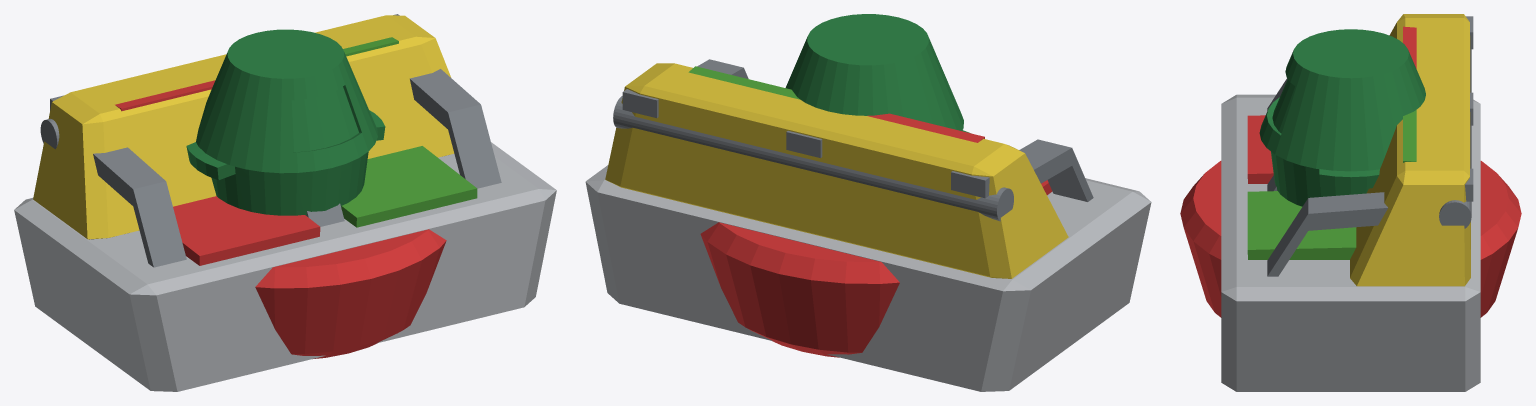
Rendered from muebles.glb.
The picture shows the model from 3 angles, left to right: view 1: azimuth 30°, elevation 25°; view 2: azimuth 150°, elevation 25°; view 3: azimuth 270°, elevation 25°; orthographic projection. The views are drawn at different scales.
Parts seen in each view (by area): view 1: mueble1-0, mueble3-0, basura-0, mueble2-0, sillas-0, sillas-1, sillas-2, mueble3-1; view 2: mueble3-0, mueble1-0, mueble2-0, mueble3-1, basura-0, sillas-0, sillas-1, sillas-2; view 3: mueble1-0, mueble3-0, basura-0, mueble3-1, mueble2-0, sillas-0, sillas-2, sillas-1.
Part boxes in pixels (box(x1,y1,x2,y2)): mueble1-0: box(14, 142, 554, 391); mueble3-0: box(33, 15, 454, 239); basura-0: box(186, 29, 385, 215); mueble2-0: box(255, 229, 446, 359); sillas-0: box(40, 14, 501, 267); sillas-1: box(115, 80, 320, 265); sillas-2: box(341, 37, 477, 227); mueble3-1: box(32, 148, 556, 391); mueble3-0: box(605, 63, 1068, 278); mueble1-0: box(585, 165, 1151, 391); mueble2-0: box(700, 222, 899, 357); mueble3-1: box(589, 180, 1118, 391); basura-0: box(785, 14, 970, 133); sillas-0: box(613, 59, 1093, 221); sillas-1: box(867, 113, 1052, 195); sillas-2: box(688, 66, 799, 99); mueble1-0: box(1221, 94, 1480, 391); mueble3-0: box(1350, 14, 1470, 286); basura-0: box(1259, 29, 1425, 206); mueble3-1: box(1221, 97, 1480, 391); mueble2-0: box(1180, 161, 1521, 317); sillas-0: box(1267, 16, 1473, 276); sillas-2: box(1247, 110, 1416, 259); sillas-1: box(1247, 26, 1416, 183).
Bounding box in the file's own units: 2.84 × 1.61 × 1.98.
